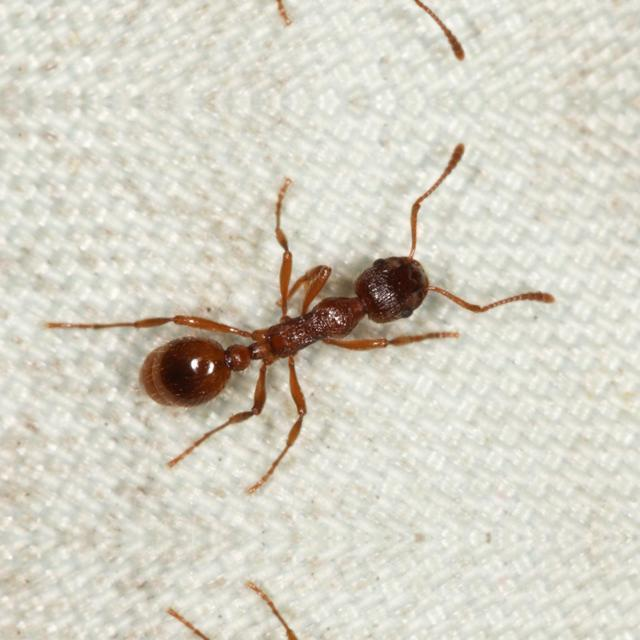Myrmica: (130, 171, 490, 455)
